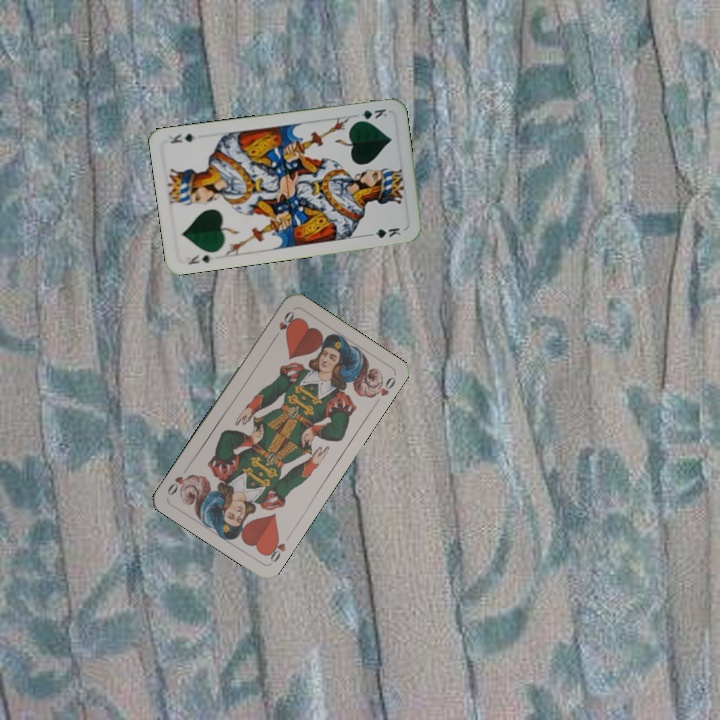GK: (351, 105, 390, 125), (184, 250, 216, 267)
HO: (262, 530, 294, 565), (269, 306, 297, 342)
